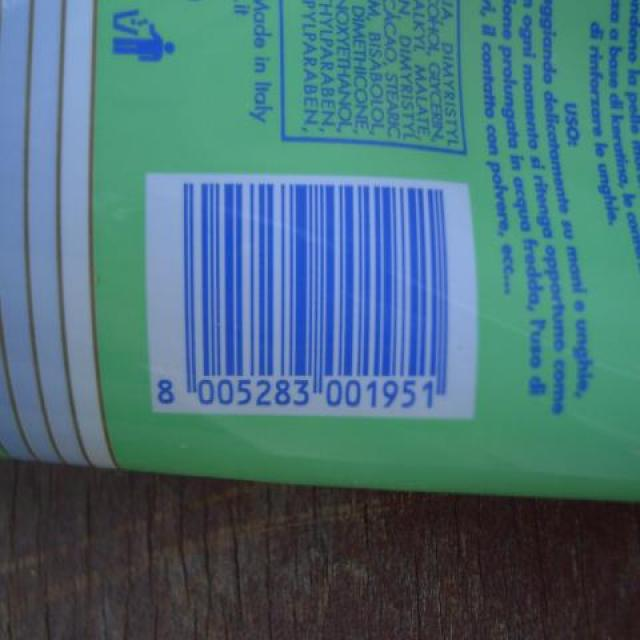Barcode: (142, 168, 482, 432)
